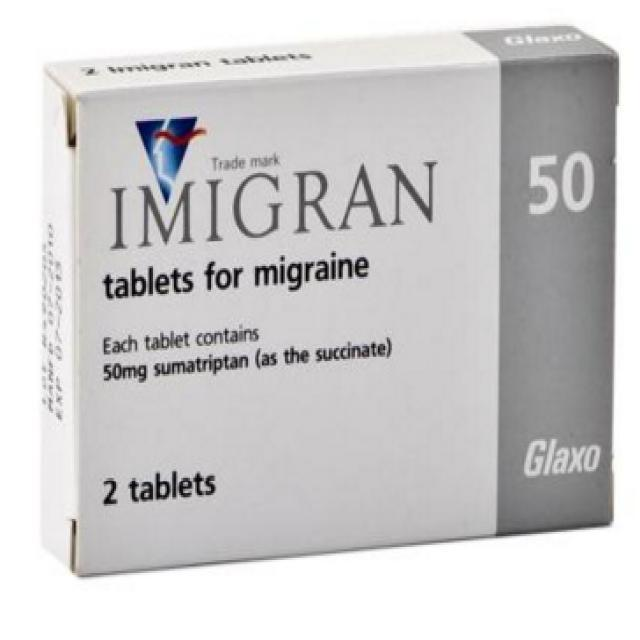drug-name: (106, 159, 437, 254)
